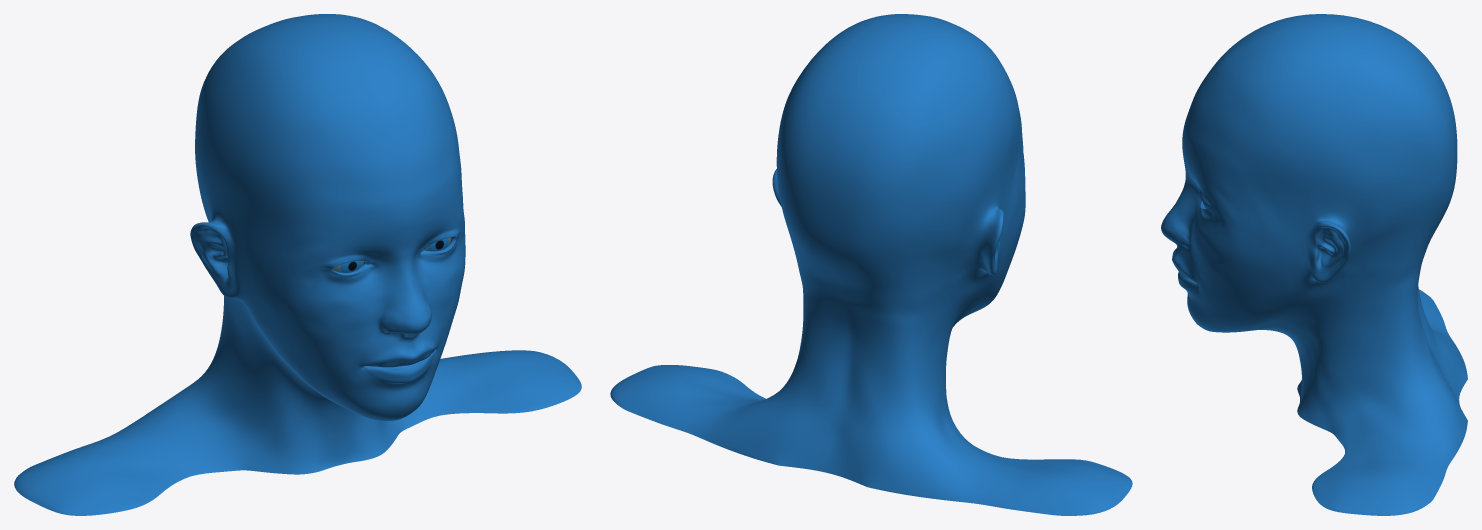
File: suu-face-anatomical.glb
3 renders of one model, left to right at view 1: azimuth 30°, elevation 25°; view 2: azimuth 150°, elevation 25°; view 3: azimuth 270°, elevation 25°, orthographic. The views are drawn at different scales.
Size of the model in its own units: 3.68 by 2.76 by 2.05.
